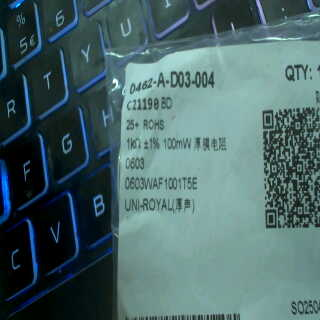1kR: (123, 134, 143, 155)
